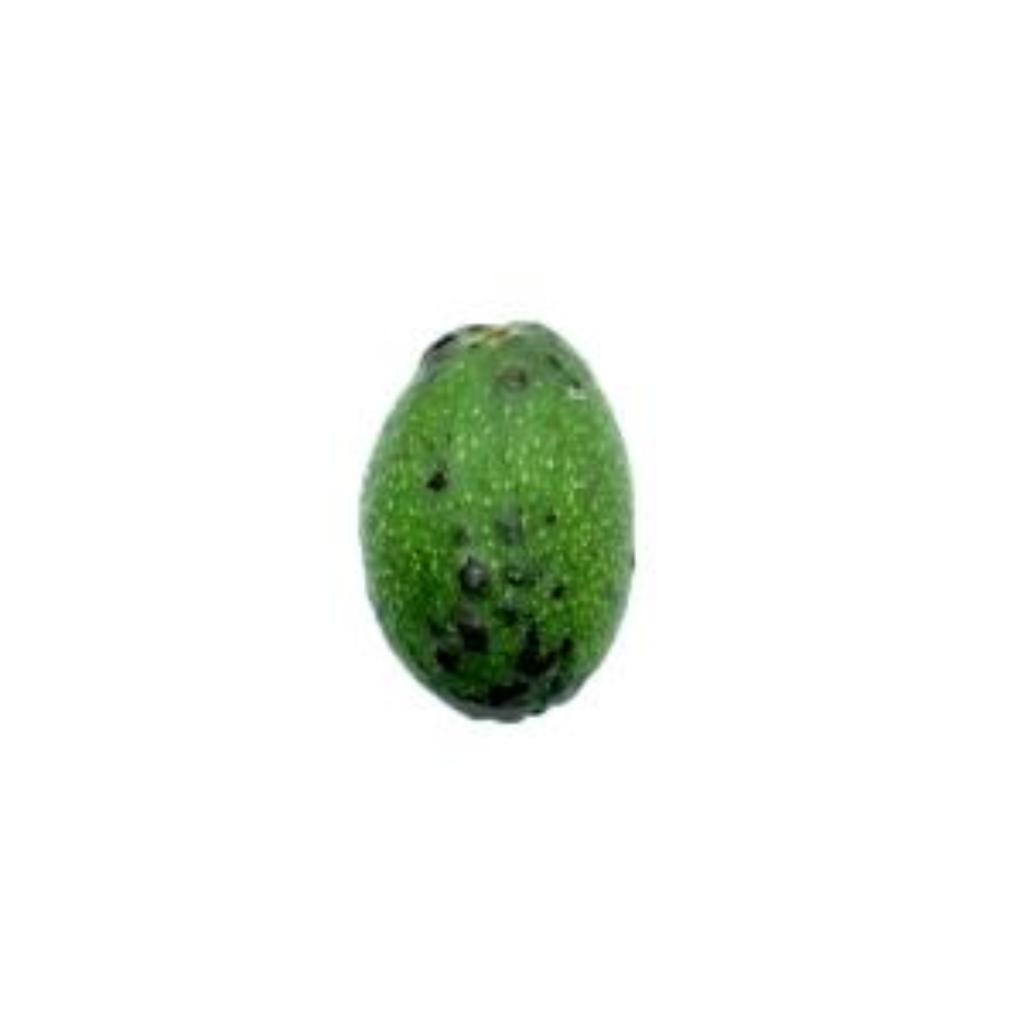cercospora: (341, 297, 658, 737)
